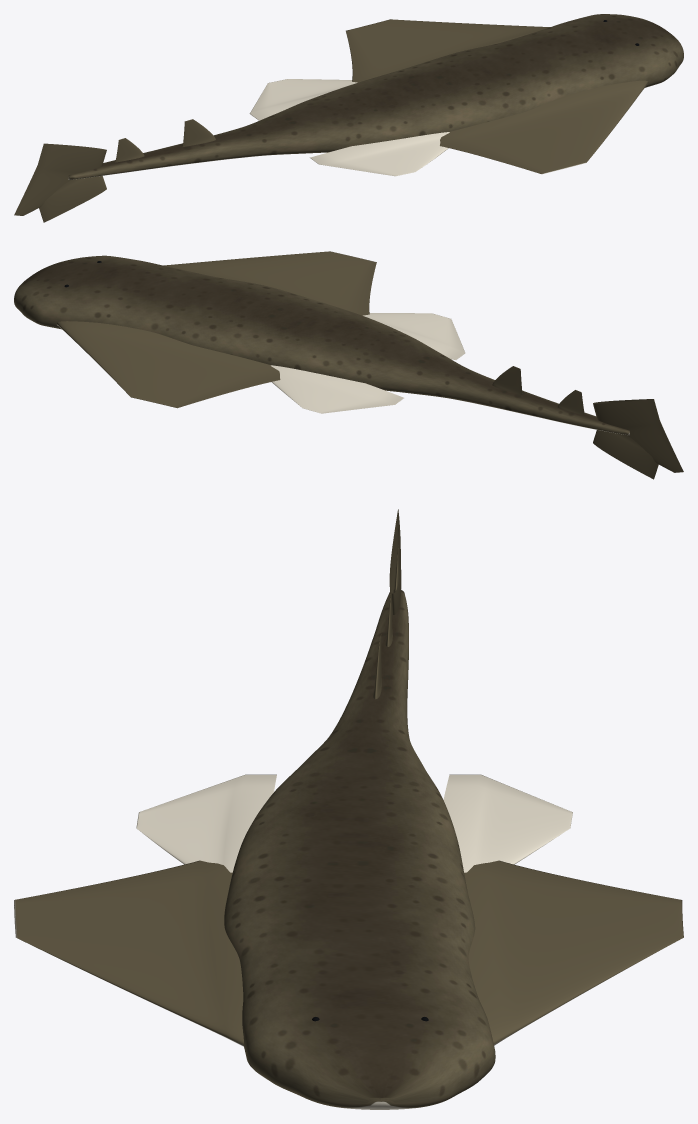
File: angelshark.glb
3 views of the same model, one above another, from view 1: azimuth 30°, elevation 25°; view 2: azimuth 150°, elevation 25°; view 3: azimuth 270°, elevation 25° (orthographic). The views are drawn at different scales.
Parts seen in each view (by area): view 1: Angelshark_Body, Angelshark_Fins; view 2: Angelshark_Body, Angelshark_Fins; view 3: Angelshark_Body, Angelshark_Fins.
Part boxes in pixels (box(x1,y1,x2,y2)): Angelshark_Body: box(68, 14, 683, 179); Angelshark_Fins: box(14, 19, 648, 222); Angelshark_Body: box(14, 255, 629, 435); Angelshark_Fins: box(56, 251, 683, 479); Angelshark_Body: box(224, 590, 495, 1109); Angelshark_Fins: box(14, 509, 683, 1046).
Size of the model in its own units: 1.5 by 0.174 by 0.7816.
Materials: 3 (1 with a texture image).
